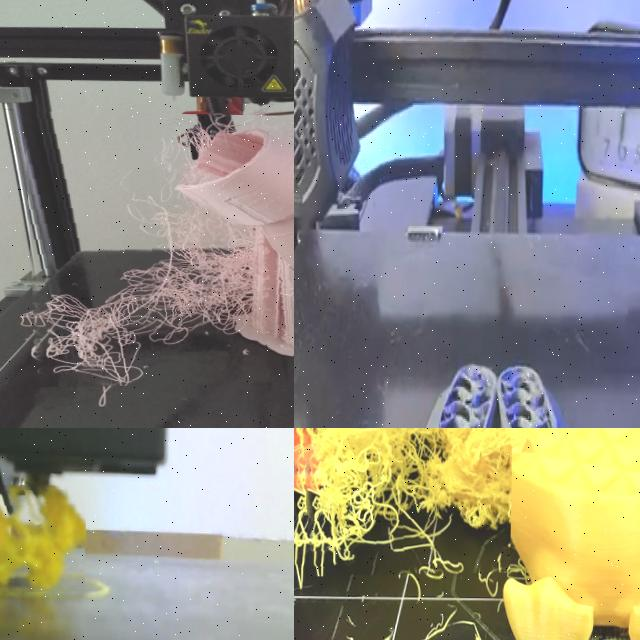spaghetti: (31, 114, 294, 387), (294, 428, 514, 579), (0, 483, 86, 596)
